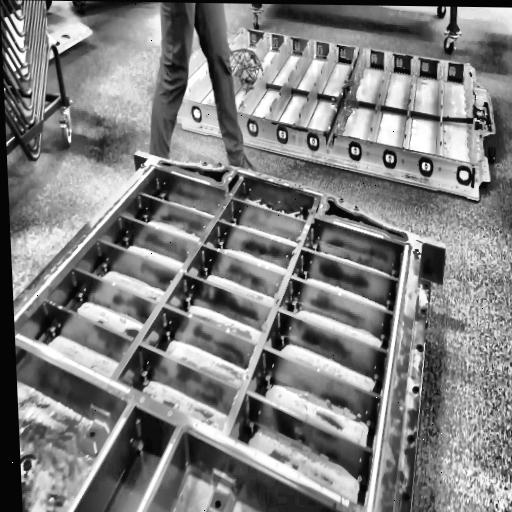b_casing: (14, 152, 425, 512)
